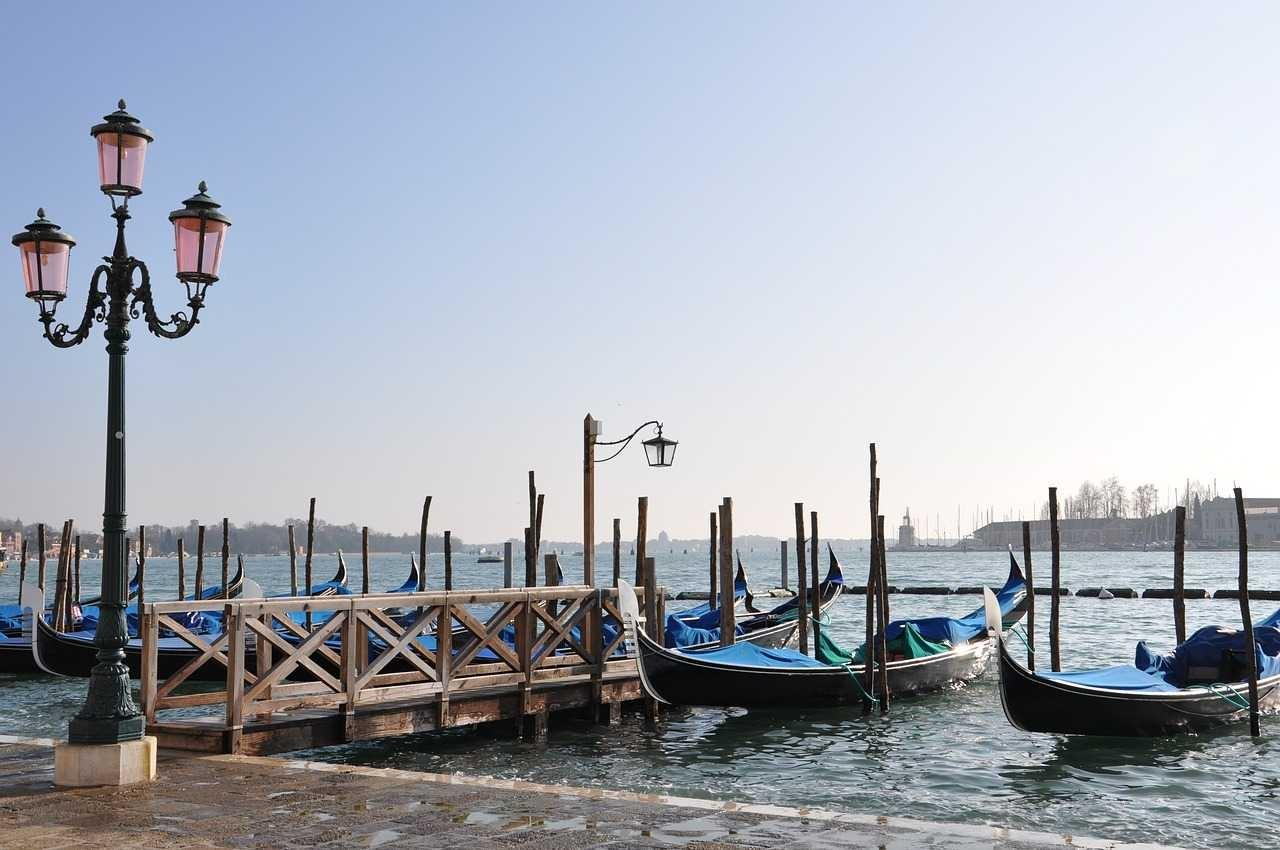kayak: (986, 486, 1280, 738), (631, 553, 1027, 711), (664, 551, 846, 646), (32, 600, 252, 678), (0, 602, 35, 670)
